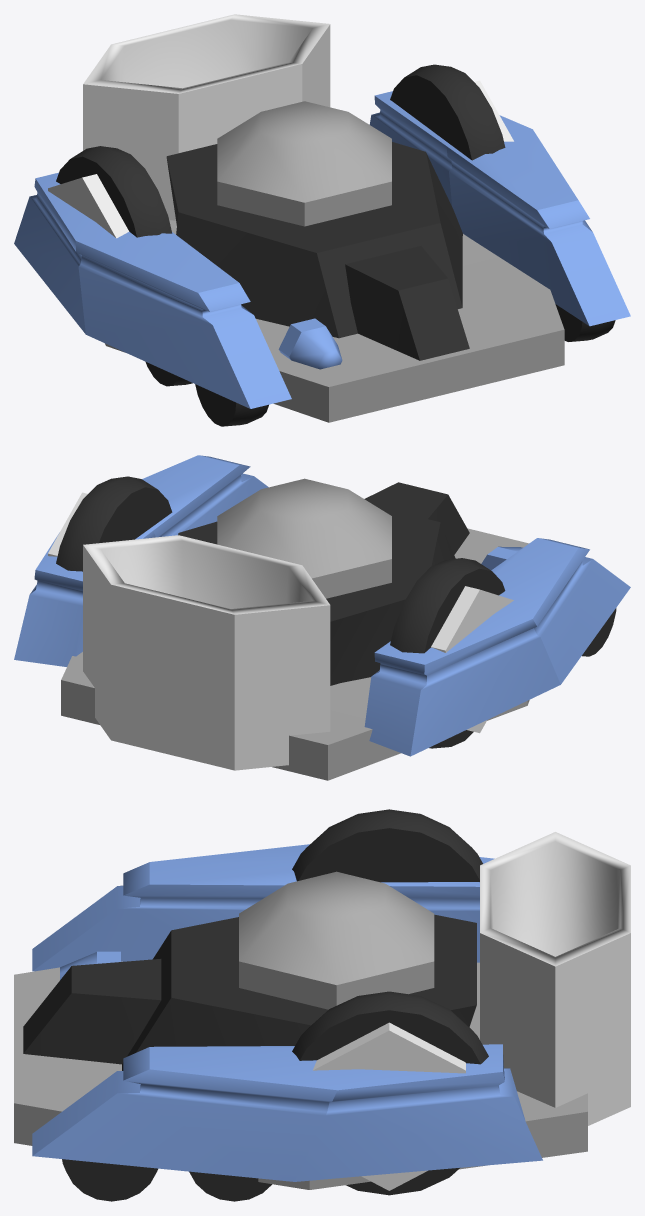
File: GamePlay_Player.fbx
3 views of the same model, one above another, from view 1: azimuth 30°, elevation 25°; view 2: azimuth 150°, elevation 25°; view 3: azimuth 270°, elevation 25° (orthographic). The views are drawn at different scales.
Visible parts, largest first — view 1: pCylinder22; view 2: pCylinder22; view 3: pCylinder22.
Part boxes in pixels (left/top/right/bottom): pCylinder22: left=14, top=14, right=630, bottom=426; pCylinder22: left=14, top=455, right=630, bottom=780; pCylinder22: left=14, top=809, right=630, bottom=1201.
Size of the model in its own units: 3.84 by 1.42 by 3.87.
